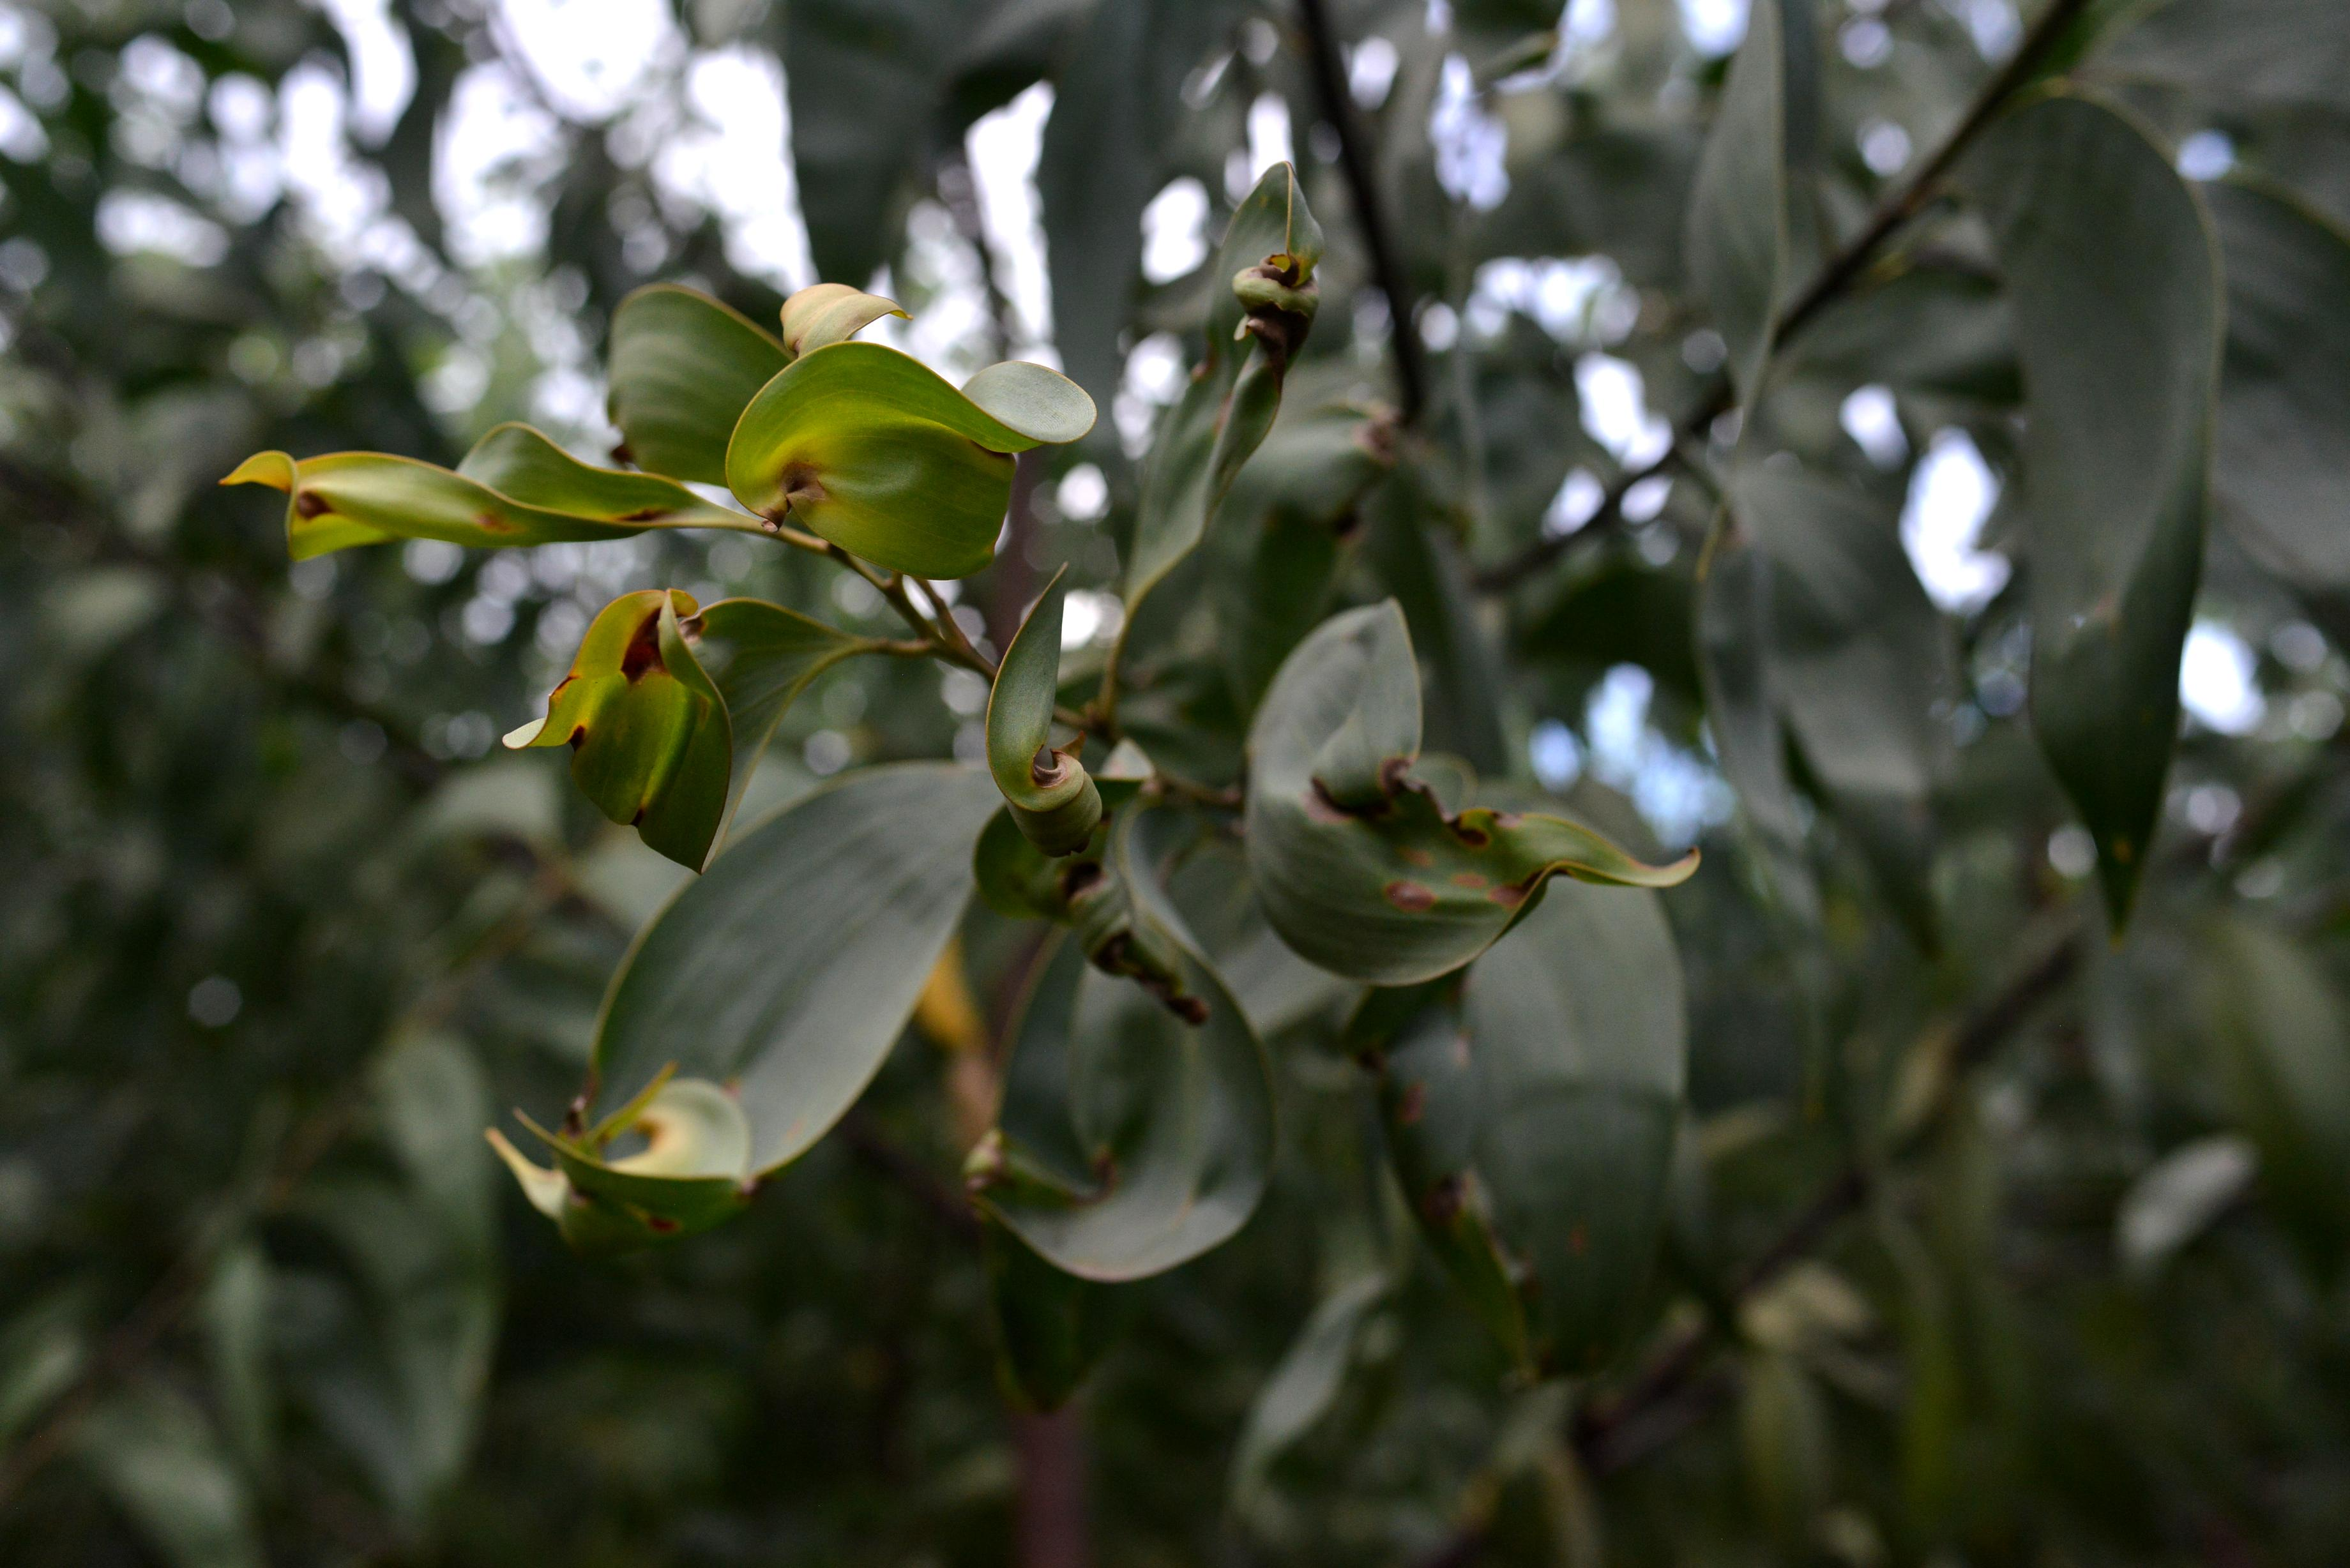Pasalora: (1099, 185, 1344, 684), (987, 915, 1281, 1274), (240, 324, 623, 581), (724, 320, 1045, 614), (1335, 724, 1645, 938), (481, 598, 705, 887), (994, 716, 1185, 1011), (457, 1088, 749, 1249)
